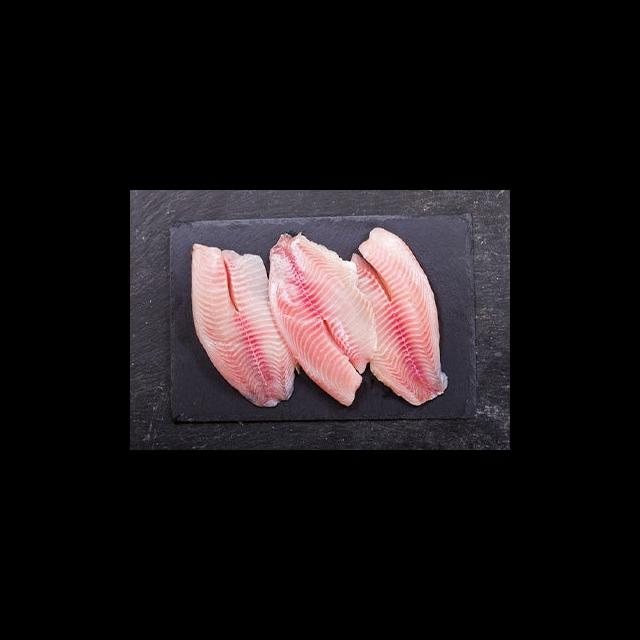fish: (183, 236, 305, 417), (266, 228, 382, 410)
